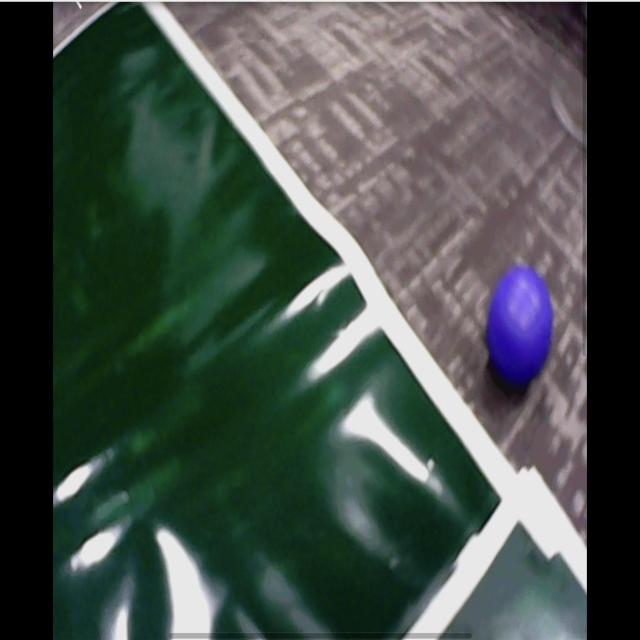ball: (489, 270, 555, 386)
